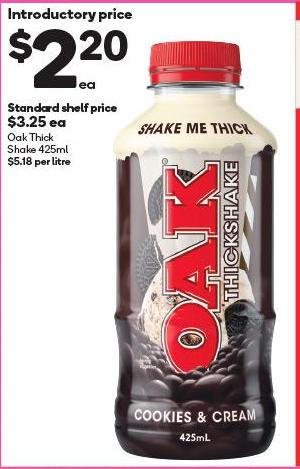description_block: (5, 132, 81, 156)
price_main: (4, 27, 134, 96)
product_image_block: (99, 31, 290, 459)
unit_price_block: (5, 157, 82, 171)
